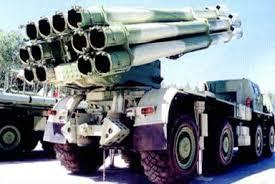MIL_SAM_TEL: (14, 5, 275, 181)
